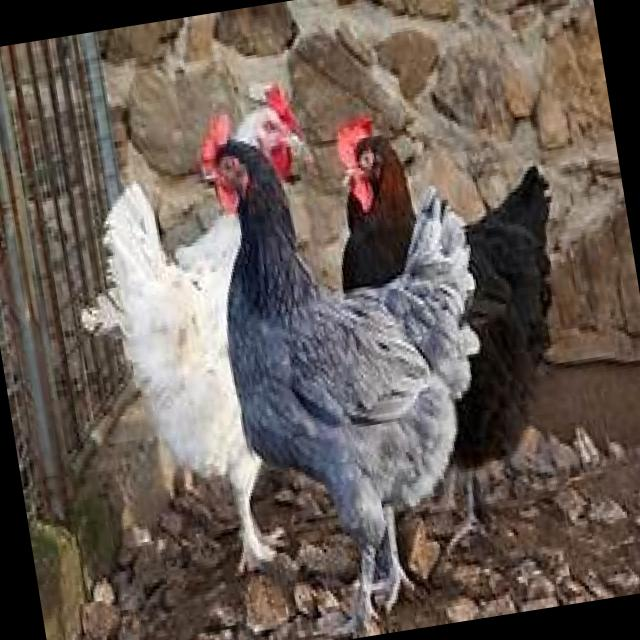animal: (192, 89, 529, 640), (49, 77, 378, 598), (313, 84, 607, 569)
